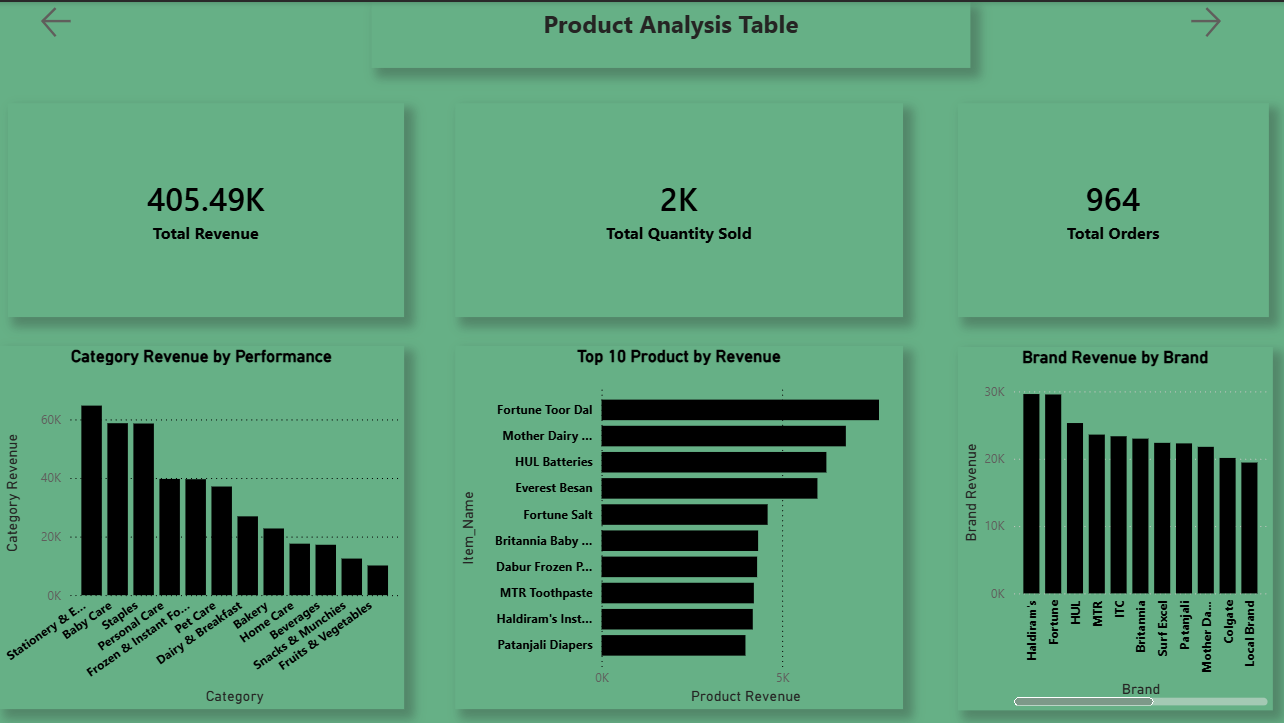

This screenshot's page, from the dashboard's own definition file:
{"tool":"powerbi","page":{"name":"Product Analysis","canvas":[1280,720],"ordinal":2},"visuals":[{"type":"cardVisual","fields":{"Data":["Measure.Total Revenue"]},"box":[8.7,100.8,394.3,212.7],"z":0},{"type":"cardVisual","fields":{"Data":["Measure.Total Quantity Sold"]},"box":[454,100.8,445.3,212.7],"z":1000},{"type":"cardVisual","fields":{"Data":["Measure.Total Orders"]},"box":[954.1,100.8,309.7,212.7],"z":2000},{"type":"columnChart","title":"Category Revenue by Performance","fields":{"Category":["blinkit_db items.Category"],"Y":["Measure.Category Revenue"]},"box":[0,342.1,403,362],"z":3000},{"type":"barChart","title":"Top 10 Product by Revenue","fields":{"Category":["blinkit_db items.Item_Name"],"Y":["Measure.Product Revenue"]},"box":[454,342.1,445.3,362],"z":4000},{"type":"columnChart","fields":{"Category":["blinkit_db items.Brand"],"Y":["Measure.Brand Revenue"]},"box":[954.1,343.3,313.5,362],"z":5000},{"type":"actionButton","box":[37.3,0,100,40],"z":6000},{"type":"textbox","box":[370.7,0,595.9,65.9],"z":7000},{"type":"actionButton","box":[1180.5,0,100,40],"z":8000}]}

Visuals, with their boxes in screenshot pixels (x1, y1, x2, y2), scaled from the page's 1280x720 canvas onto the 1284x723 screenshot:
cardVisual - Measure.Total Revenue: locate(9, 101, 404, 315)
cardVisual - Measure.Total Quantity Sold: locate(455, 101, 902, 315)
cardVisual - Measure.Total Orders: locate(957, 101, 1268, 315)
"Category Revenue by Performance" columnChart: locate(0, 344, 404, 707)
"Top 10 Product by Revenue" barChart: locate(455, 344, 902, 707)
columnChart - blinkit_db items.Brand x Measure.Brand Revenue: locate(957, 345, 1272, 708)
actionButton: locate(37, 0, 138, 40)
textbox: locate(372, 0, 970, 66)
actionButton: locate(1184, 0, 1283, 40)
